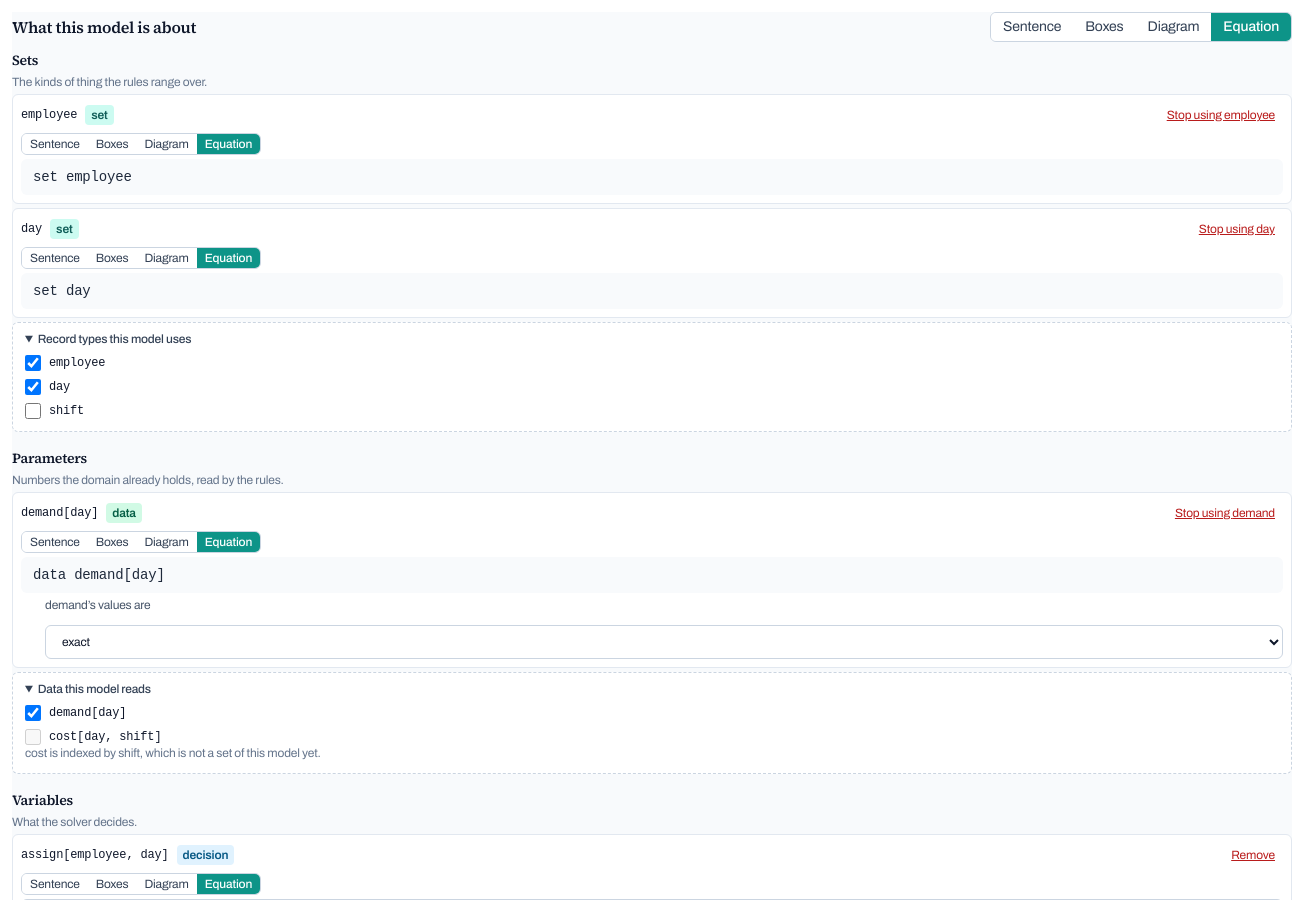
Test: DeclarationsEditor › refuses to remove a parameter a rule reads
This screenshot has width=1304, height=900.
Click the checkbox labelled "demand[day]": (33, 713) [25,705,41,721]
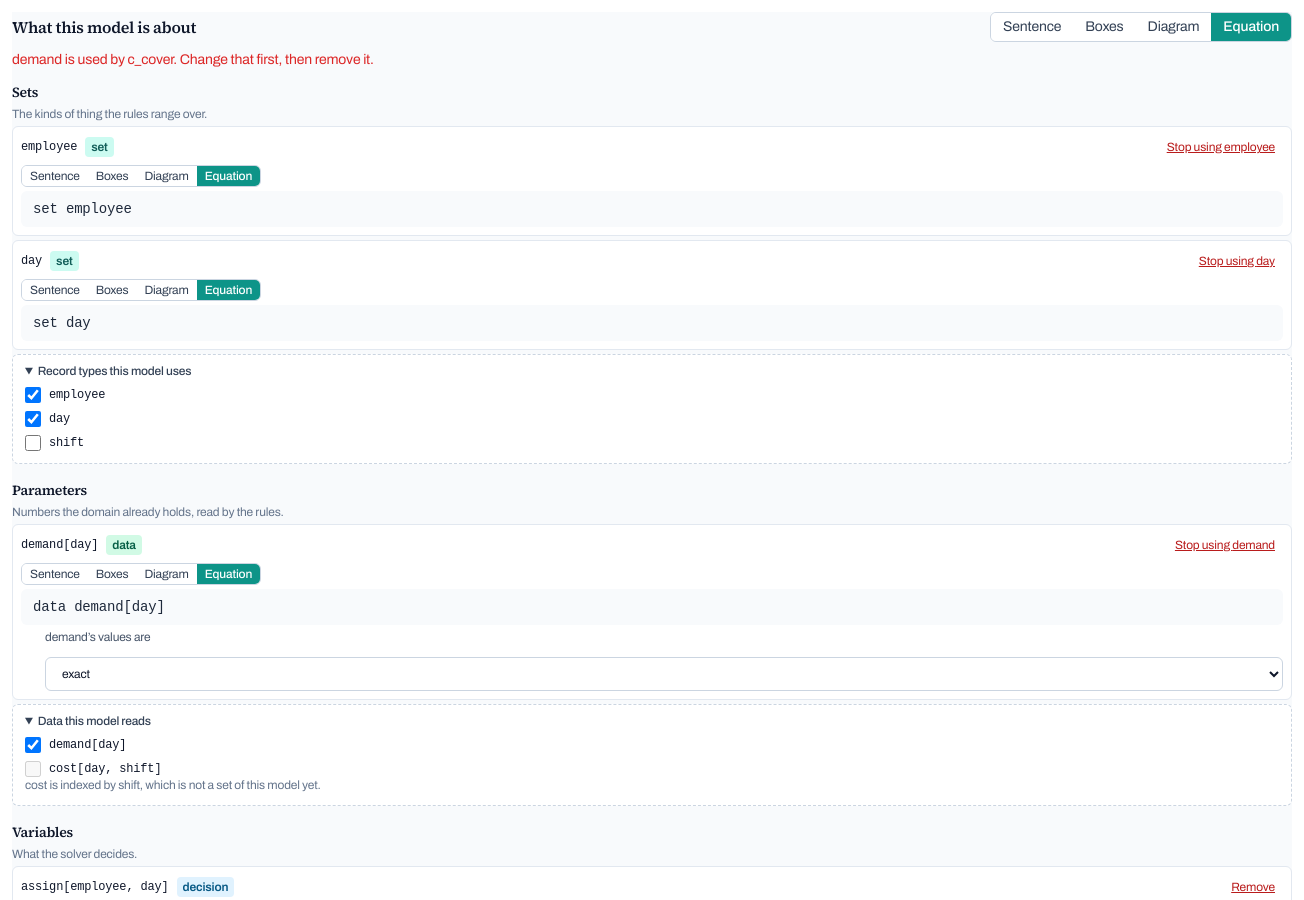
Expected: the message shows "demand is used by c_cover", [12,52,374,67]
